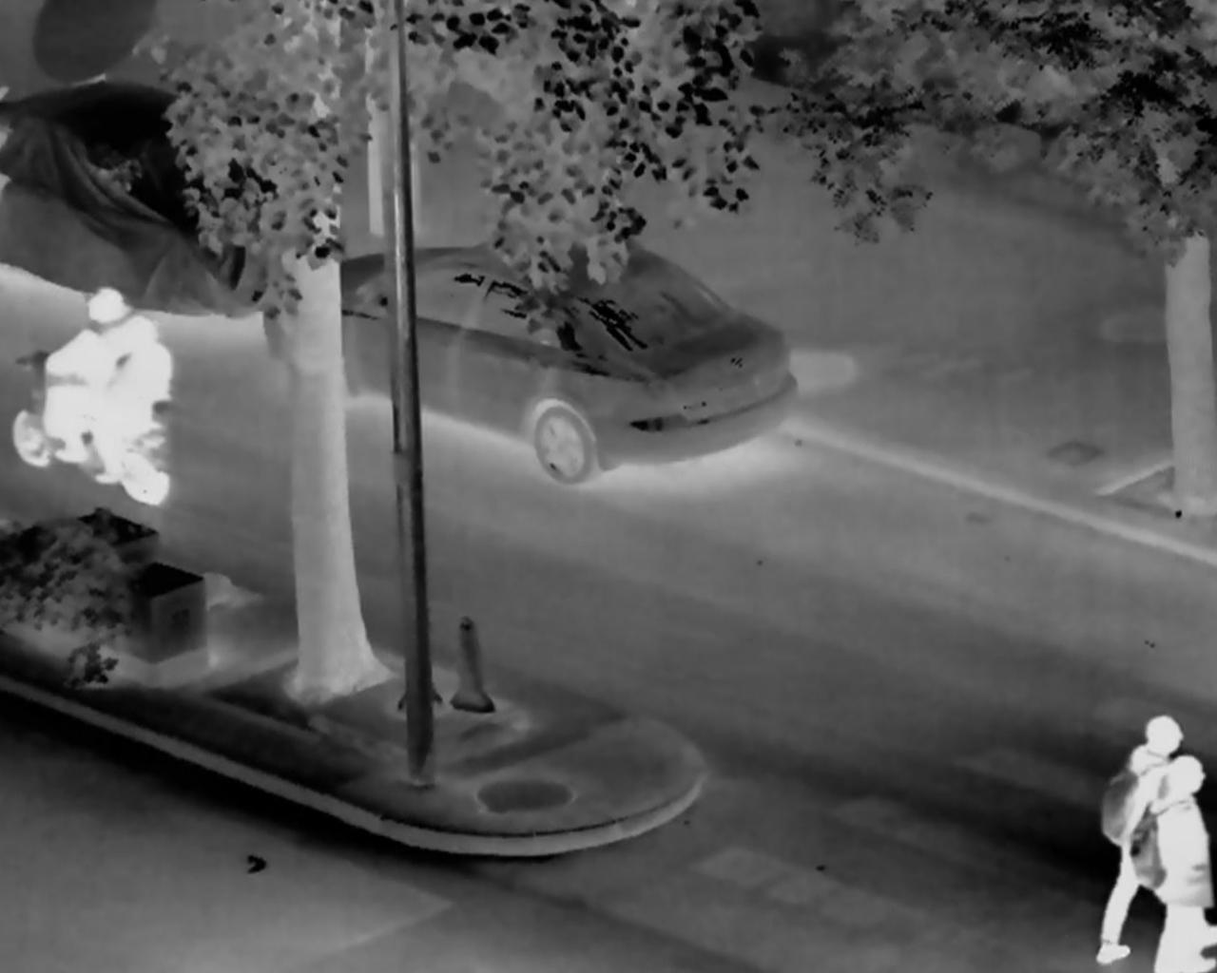person: (1091, 713, 1217, 963), (1134, 753, 1217, 969), (35, 282, 133, 464), (99, 317, 171, 485)
